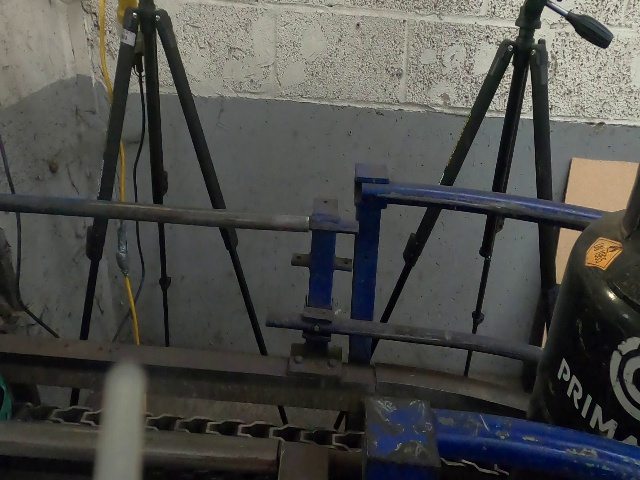gas_bottle: (6, 4, 637, 479)
